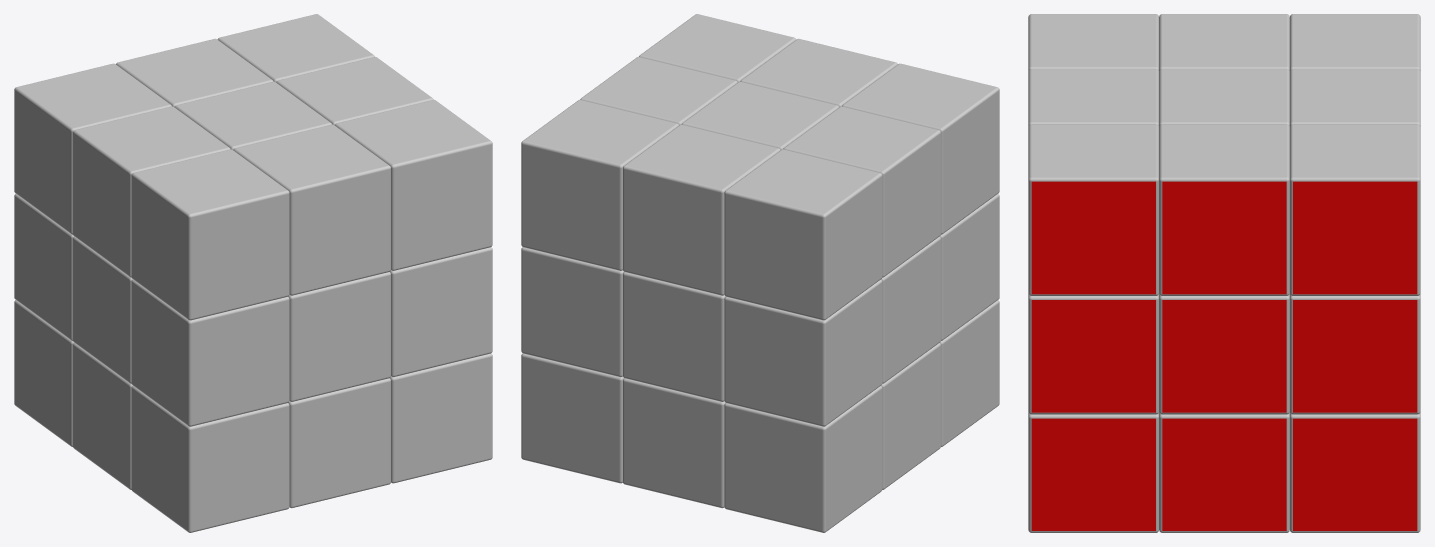
Rendered from simplecube.obj.
3 views of the same model, side by side, from view 1: azimuth 30°, elevation 25°; view 2: azimuth 150°, elevation 25°; view 3: azimuth 270°, elevation 25° (orthographic). The views are drawn at different scales.
Visible parts, largest first — view 1: Cube; view 2: Cube; view 3: Cube.
Boxes of the visible parts, left/top/right/bottom form: Cube: left=14, top=14, right=492, bottom=532; Cube: left=521, top=14, right=999, bottom=532; Cube: left=1028, top=14, right=1420, bottom=532.
Size of the model in its own units: 6 by 6 by 6.
